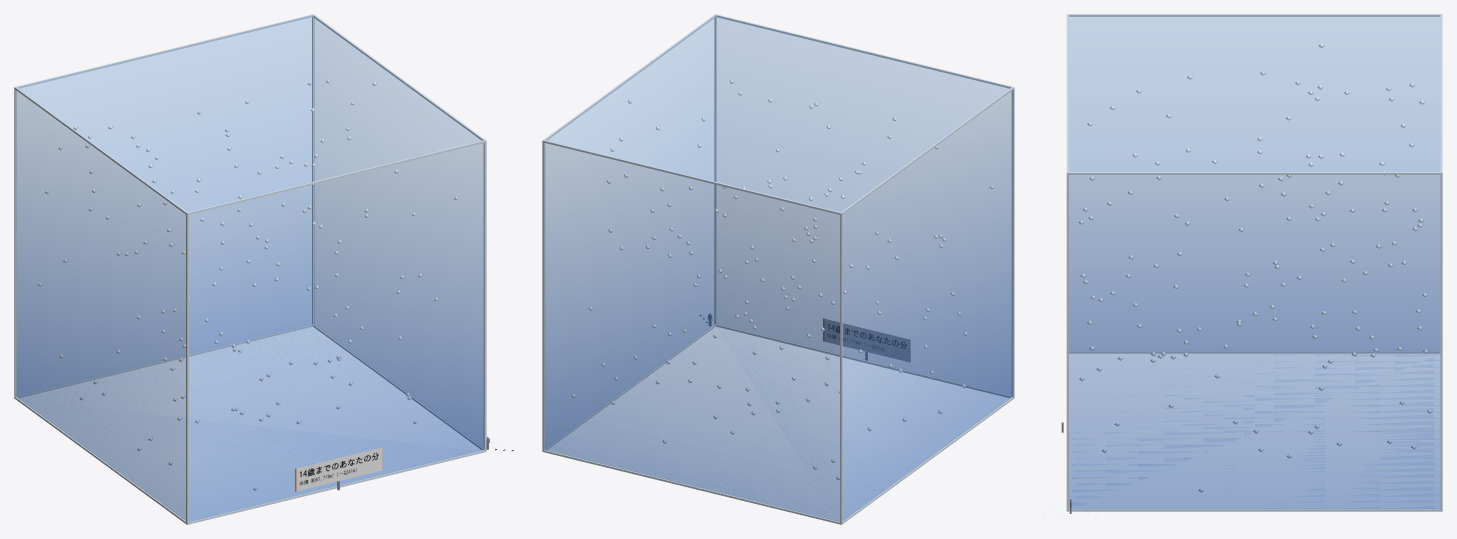
Rendered from cube_life_14.glb.
3 views of the same model, side by side, from view 1: azimuth 30°, elevation 25°; view 2: azimuth 150°, elevation 25°; view 3: azimuth 270°, elevation 25° (orthographic). The views are drawn at different scales.
Visible parts, largest first — view 1: co2, edge, dots, label; view 2: co2, edge, dots, label; view 3: co2, edge, dots.
Boxes of the visible parts, x1,y1,x2,y2 form: co2: (16, 15, 483, 521); edge: (14, 14, 486, 524); dots: (38, 79, 458, 490); label: (295, 447, 382, 491); co2: (545, 15, 1012, 521); edge: (542, 14, 1014, 524); dots: (571, 79, 993, 480); label: (823, 318, 910, 362); co2: (1068, 14, 1441, 508); edge: (1066, 14, 1442, 511); dots: (1078, 43, 1432, 492).
Bounding box in the file's own units: 44.46 × 40.77 × 43.56.
Materials: 8 (3 with a texture image).
